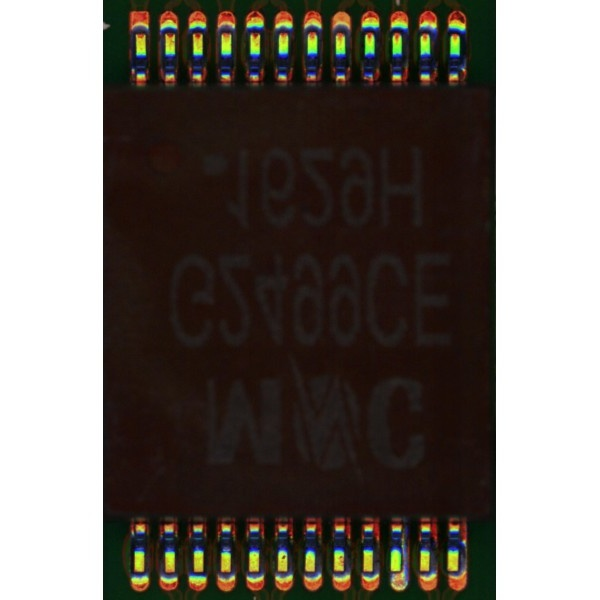Bad_podu: (393, 565, 402, 579)
Bad_qiaojiao: (401, 530, 408, 570)
